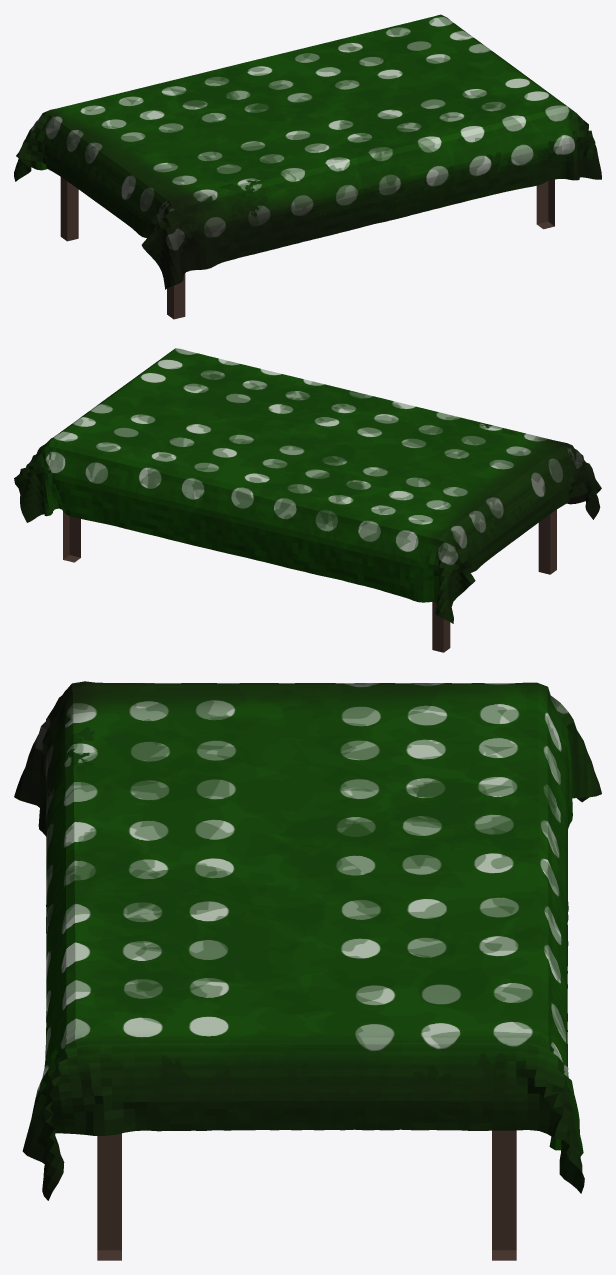
The model's file is Stol.fbx.
The picture shows the model from 3 angles, top to bottom: view 1: azimuth 30°, elevation 25°; view 2: azimuth 150°, elevation 25°; view 3: azimuth 270°, elevation 25°; orthographic projection. The views are drawn at different scales.
Parts seen in each view (by area): view 1: Plane, Cube.001; view 2: Plane, Cube.001; view 3: Plane, Cube.001.
Part boxes in pixels (x1=…): Plane: x1=14, y1=14, x2=601, y2=289; Cube.001: x1=60, y1=177, x2=554, y2=319; Plane: x1=14, y1=348, x2=601, y2=623; Cube.001: x1=63, y1=509, x2=556, y2=652; Plane: x1=14, y1=681, x2=601, y2=1200; Cube.001: x1=97, y1=1130, x2=516, y2=1260.
Bounding box in the file's own units: 421 × 109 × 255.
